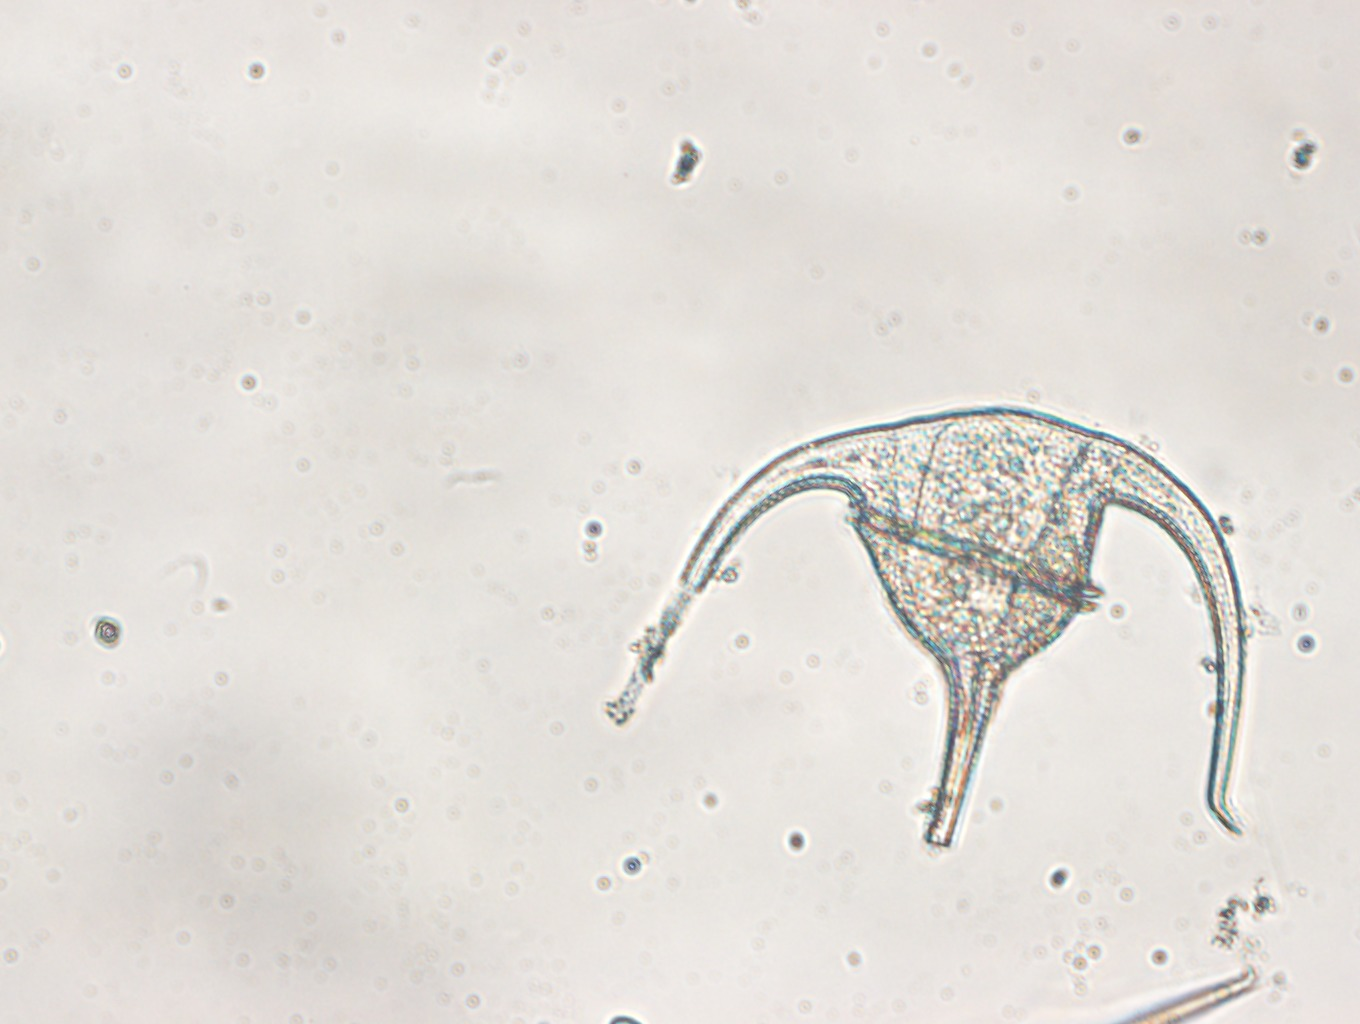ceratium tripos: (677, 400, 1249, 855)
